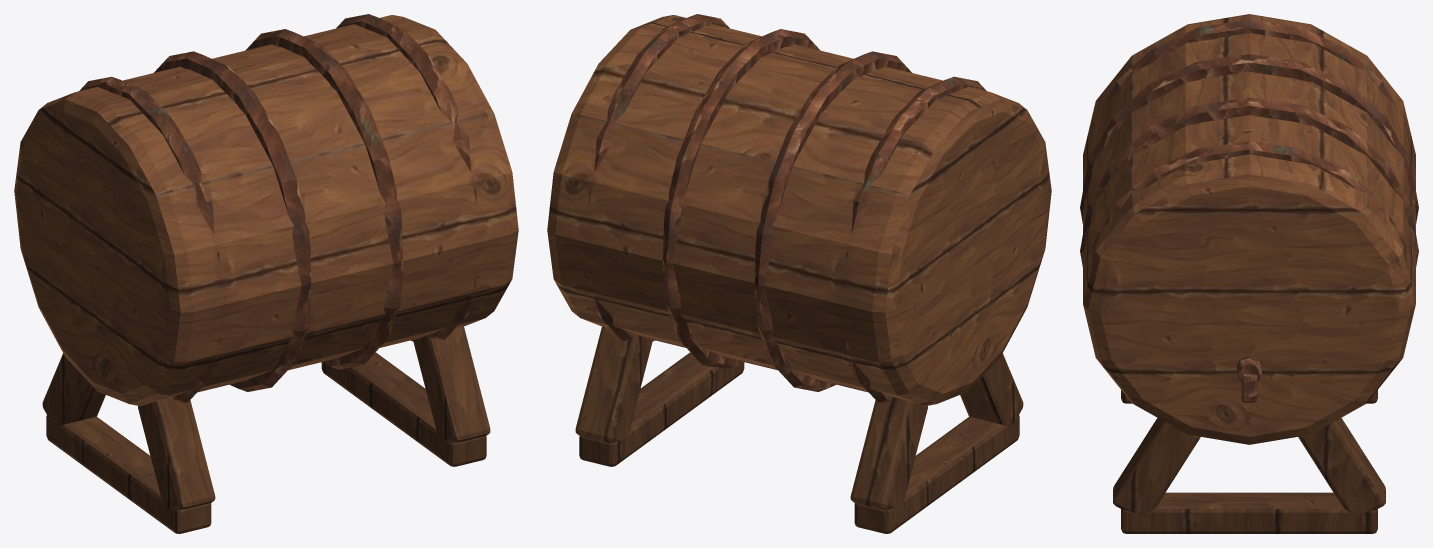
Rendered from keg.glb.
3 renders of one model, left to right at view 1: azimuth 30°, elevation 25°; view 2: azimuth 150°, elevation 25°; view 3: azimuth 270°, elevation 25°, orthographic. The views are drawn at different scales.
Visible parts, largest first — view 1: model; view 2: model; view 3: model.
Part boxes in pixels (<box>): model: <box>14,14,518,533</box>; model: <box>547,14,1051,533</box>; model: <box>1080,14,1418,533</box>.
Size of the model in its own units: 0.793 by 0.83 by 0.66.
Materials: 3 (3 with a texture image).
